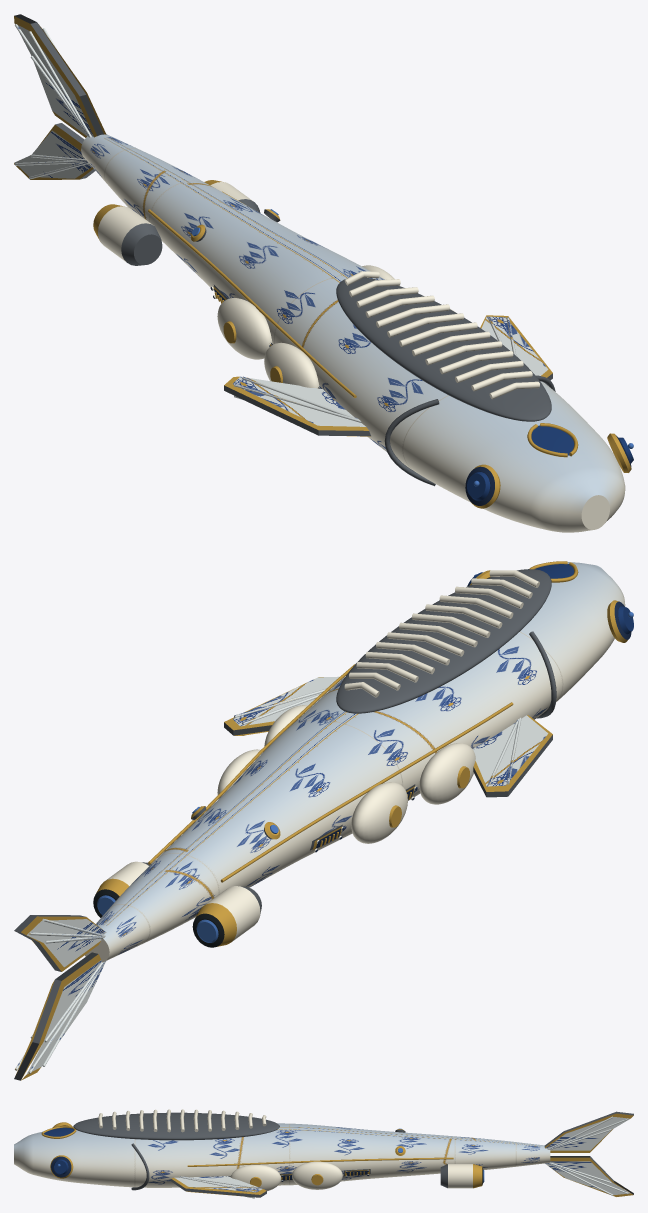
3 views of the same model, one above another, from view 1: azimuth 30°, elevation 25°; view 2: azimuth 150°, elevation 25°; view 3: azimuth 270°, elevation 25° (orthographic). The views are drawn at different scales.
Parts seen in each view (by area): view 1: remora_hull; view 2: remora_hull; view 3: remora_hull.
Part boxes in pixels (x1,y1,x2,y2): remora_hull: [14, 14, 633, 532]; remora_hull: [14, 561, 633, 1080]; remora_hull: [14, 1109, 633, 1198].
Size of the model in its own units: 18.16 by 9.53 by 64.
Materials: 1 (1 with a texture image).
